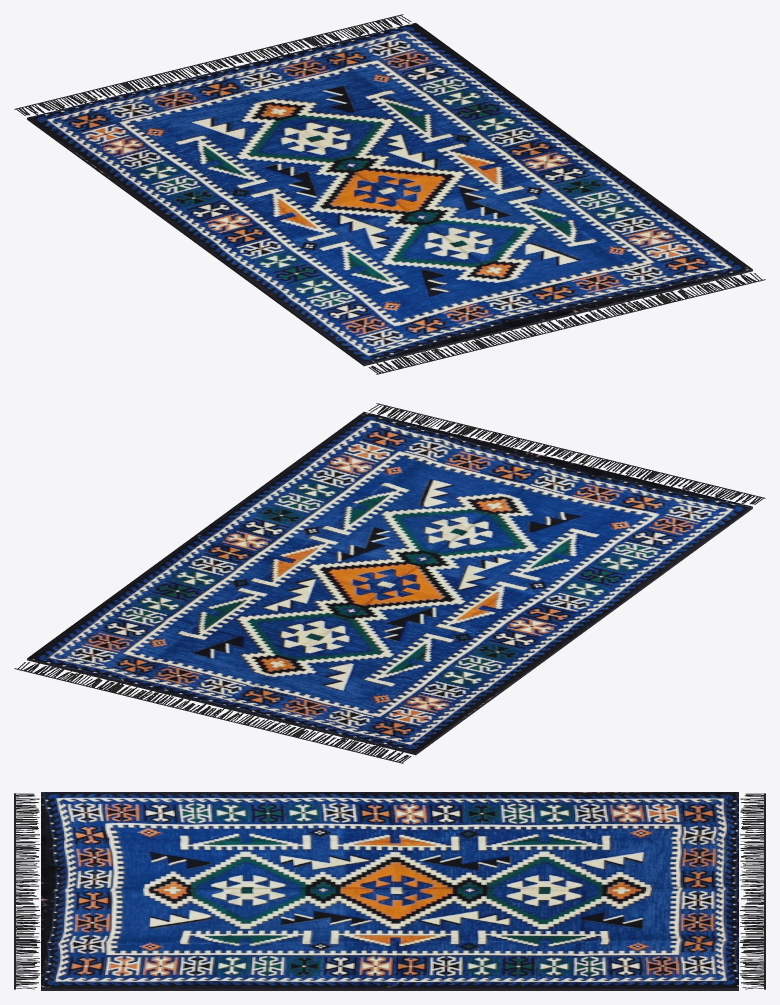
File: kilim_blue_120x180.glb
3 views of the same model, one above another, from view 1: azimuth 30°, elevation 25°; view 2: azimuth 150°, elevation 25°; view 3: azimuth 270°, elevation 25° (orthographic). The views are drawn at different scales.
Visible parts, largest first — view 1: rug, fringeB, fringeA, side; view 2: rug, fringeA, fringeB, side; view 3: rug, fringeA, fringeB, side.
Boxes of the visible parts, bbox=[...] form: rug: bbox=[27, 23, 752, 363]; fringeB: bbox=[368, 273, 765, 374]; fringeA: bbox=[14, 14, 411, 115]; side: bbox=[27, 118, 752, 366]; rug: bbox=[27, 412, 752, 752]; fringeA: bbox=[14, 662, 411, 763]; fringeB: bbox=[368, 403, 765, 504]; side: bbox=[27, 507, 752, 755]; rug: bbox=[41, 792, 738, 988]; fringeA: bbox=[739, 793, 765, 989]; fringeB: bbox=[14, 793, 40, 989]; side: bbox=[41, 988, 738, 990].
Bounding box in the file's own units: 1.2 × 0.00614 × 1.94.
2 materials, 2 textured.
